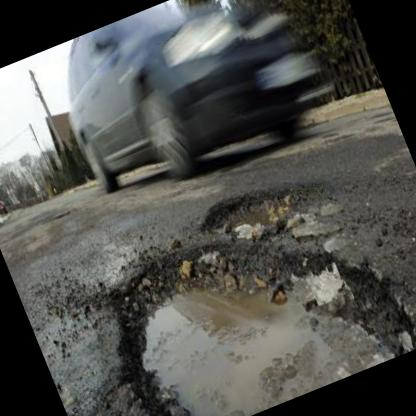pothole: (80, 167, 416, 416), (192, 158, 340, 262)
